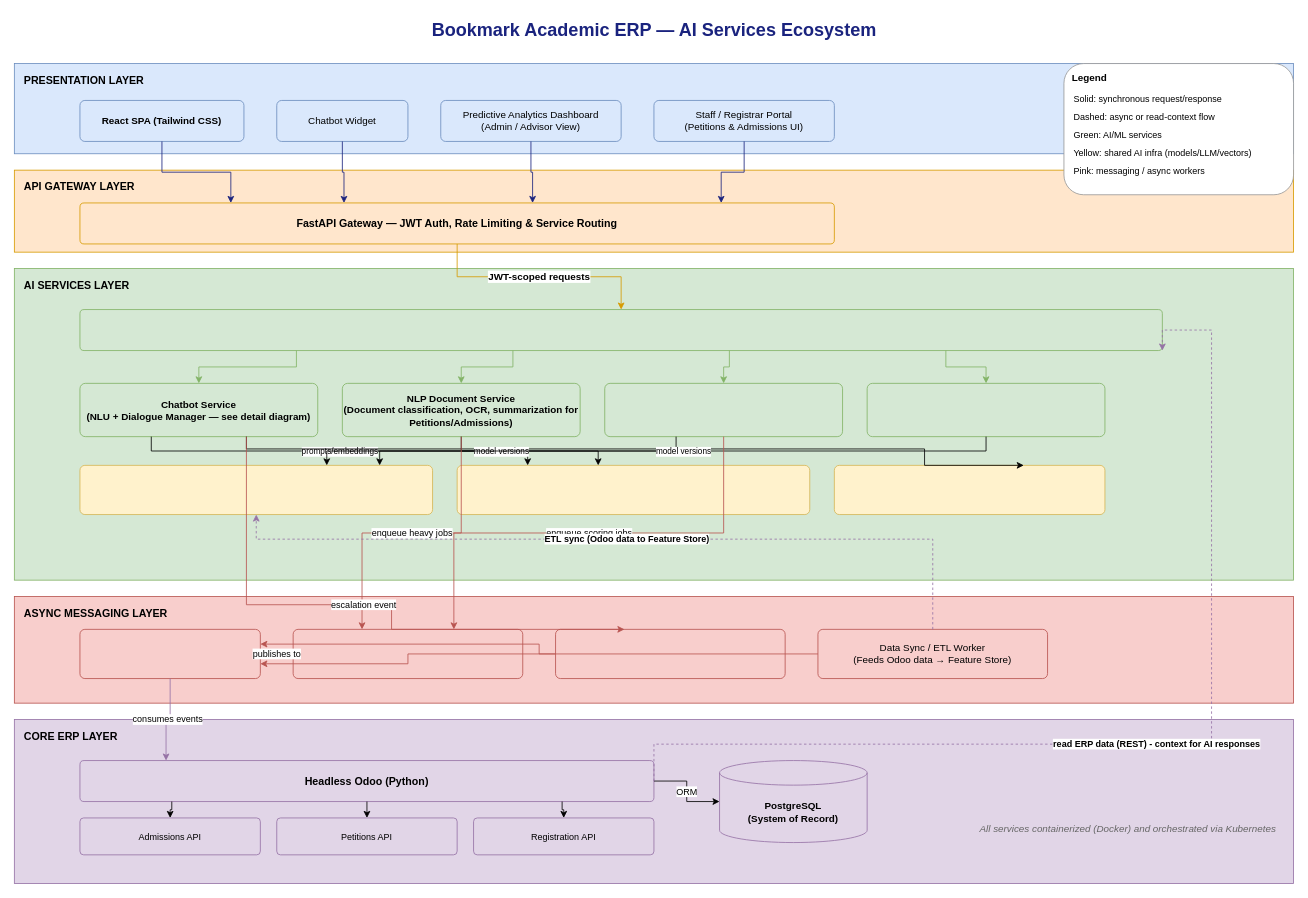
This 1308x898 diagram has some shape labels left out. Each missing label, with the centre of its shape:
"AI Services Gateway / Orchestrator (internal service mesh entrypoint)" belongs at (620,330).
"Async Inference Worker (Batch scoring, doc processing jobs)" belongs at (407,654).
"LLM Provider Layer (Claude API — completion, embeddings)" belongs at (633,490).
"Model Registry & Feature Store (Versioned ML models, training features)" belongs at (256,490).
"Notification Worker (Chatbot escalations, alerts)" belongs at (670,654).
"Predictive Analytics Service (Enrollment forecasting, at-risk student scoring)" belongs at (723,410).
"RabbitMQ Broker" belongs at (169,654).
"Recommendation Engine (Course / advising recommendations)" belongs at (985,410).
"Vector Store (Embeddings for RAG / Knowledge Base)" belongs at (969,490).
